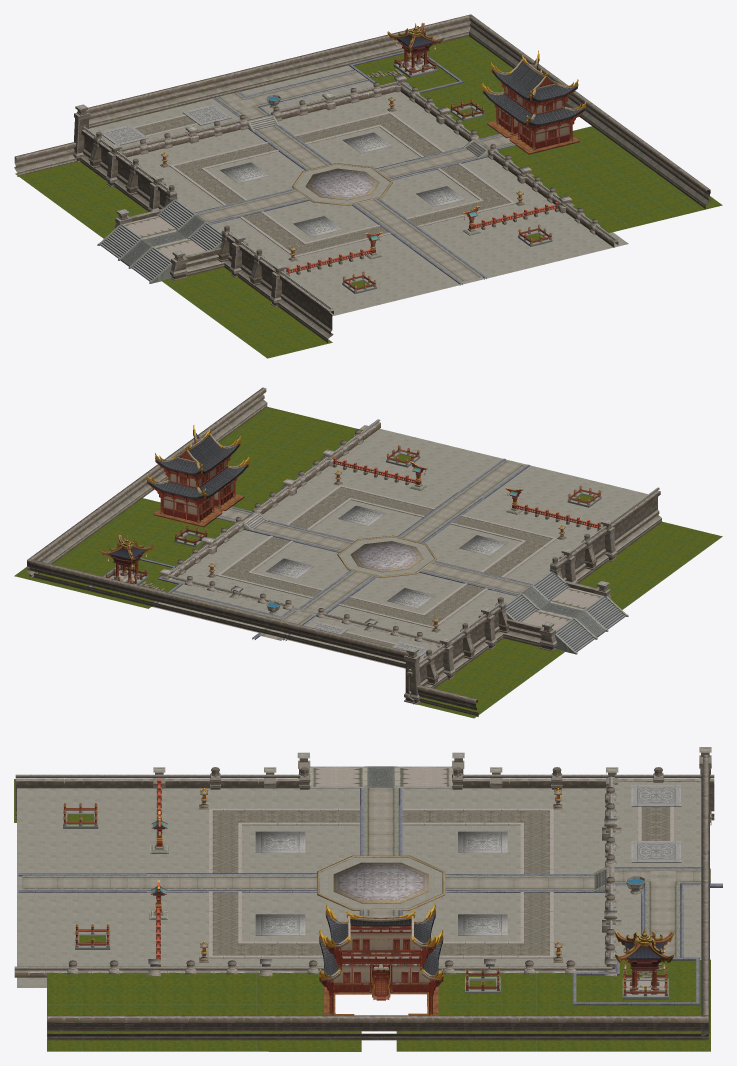
File: WJJT.FBX
3 views of the same model, one above another, from view 1: azimuth 30°, elevation 25°; view 2: azimuth 150°, elevation 25°; view 3: azimuth 270°, elevation 25° (orthographic). The views are drawn at different scales.
Parts seen in each view (by area): view 1: Object424293, polySurface58, Object424311, polySurface10, polySurface14, Object424221, Object424286, polySurface60, Object424281, Object424231, polySurface12, polySurface59 (+4 smaller); view 2: polySurface58, Object424293, Object424311, polySurface10, Object424221, polySurface14, Object424286, polySurface60, Object424281, polySurface12, polySurface59, Object424231 (+3 smaller); view 3: polySurface58, Object424293, polySurface10, polySurface14, Object424221, Object424286, Object424311, Object424281, polySurface12, Object424231, polySurface59, polySurface9 (+4 smaller).
Part boxes in pixels (bbox=[...]): Object424293: bbox=[86, 14, 722, 247]; polySurface58: bbox=[127, 91, 628, 316]; Object424311: bbox=[14, 104, 333, 358]; polySurface10: bbox=[160, 96, 551, 292]; polySurface14: bbox=[101, 50, 586, 154]; Object424221: bbox=[170, 111, 558, 293]; Object424286: bbox=[196, 125, 482, 281]; polySurface60: bbox=[97, 199, 222, 283]; Object424281: bbox=[134, 22, 515, 149]; Object424231: bbox=[216, 71, 513, 148]; polySurface12: bbox=[88, 98, 240, 148]; polySurface59: bbox=[123, 216, 205, 258]; polySurface58: bbox=[177, 425, 647, 640]; Object424293: bbox=[14, 387, 441, 667]; Object424311: bbox=[404, 487, 722, 718]; polySurface10: bbox=[207, 445, 601, 632]; Object424221: bbox=[216, 452, 601, 628]; polySurface14: bbox=[105, 425, 430, 656]; Object424286: bbox=[253, 460, 530, 612]; polySurface60: bbox=[505, 571, 628, 654]; Object424281: bbox=[89, 506, 396, 644]; polySurface12: bbox=[284, 617, 438, 668]; polySurface59: bbox=[522, 587, 602, 629]; Object424231: bbox=[171, 508, 314, 640]; polySurface58: bbox=[17, 788, 606, 987]; Object424293: bbox=[14, 755, 710, 1051]; polySurface10: bbox=[63, 788, 563, 962]; polySurface14: bbox=[319, 785, 681, 1015]; Object424221: bbox=[18, 780, 609, 969]; Object424286: bbox=[22, 788, 594, 968]; Object424311: bbox=[14, 747, 714, 825]; Object424281: bbox=[360, 806, 722, 1005]; polySurface12: bbox=[614, 781, 701, 866]; Object424231: bbox=[364, 868, 710, 984]; polySurface59: bbox=[309, 768, 452, 786]; polySurface9: bbox=[320, 857, 442, 908].
Bounding box in the file's own units: 104 × 20.89 × 96.57.
